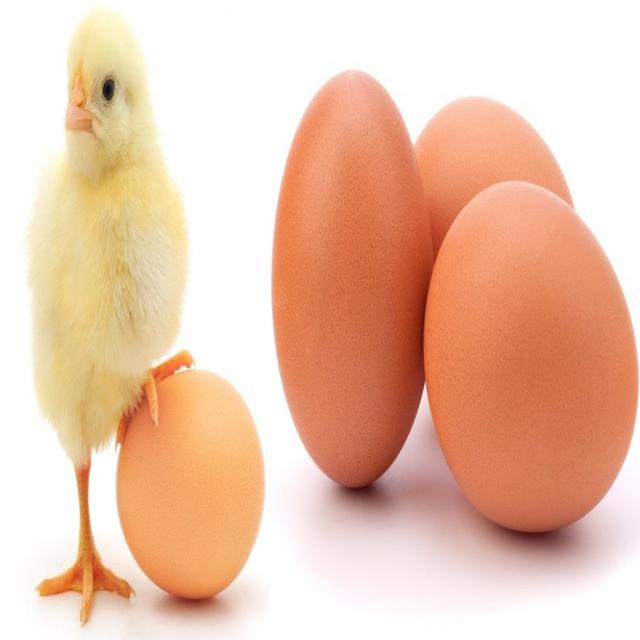eggs: (424, 180, 638, 532), (270, 70, 432, 487), (116, 372, 264, 601), (416, 96, 576, 260)
